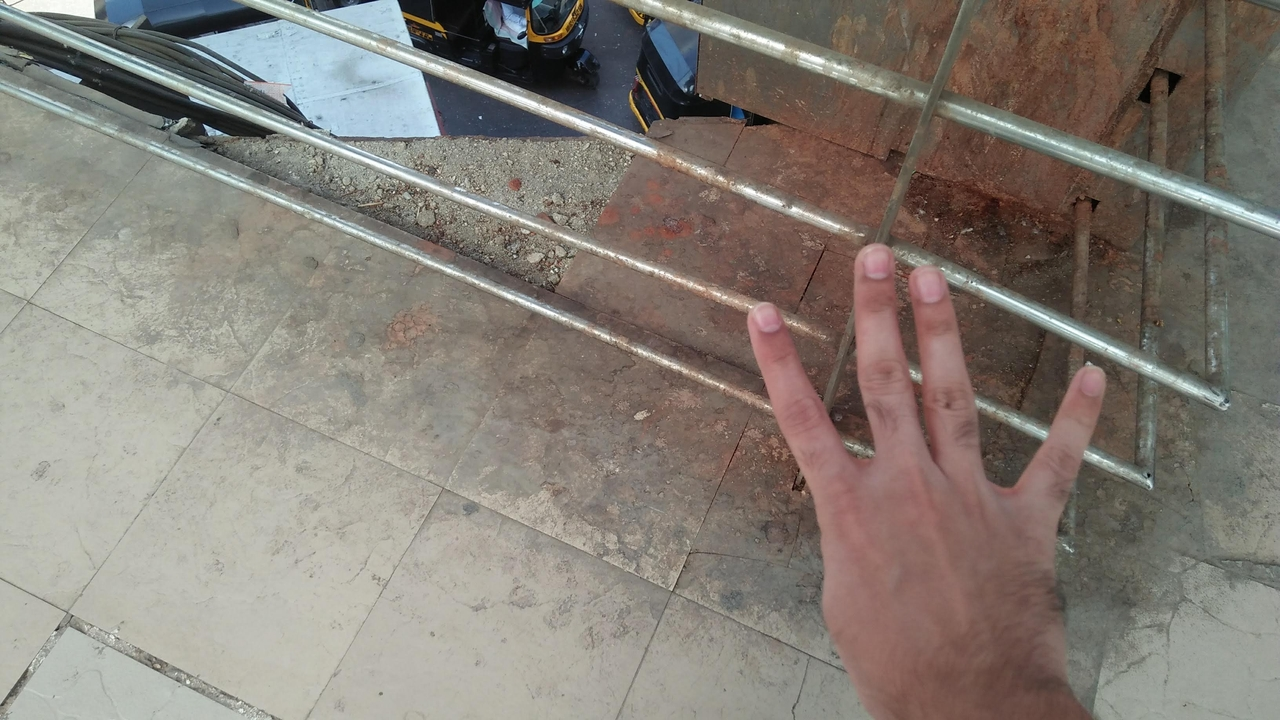fingertip: (738, 294, 794, 354), (1066, 360, 1120, 414), (850, 240, 904, 290), (912, 262, 962, 312)
